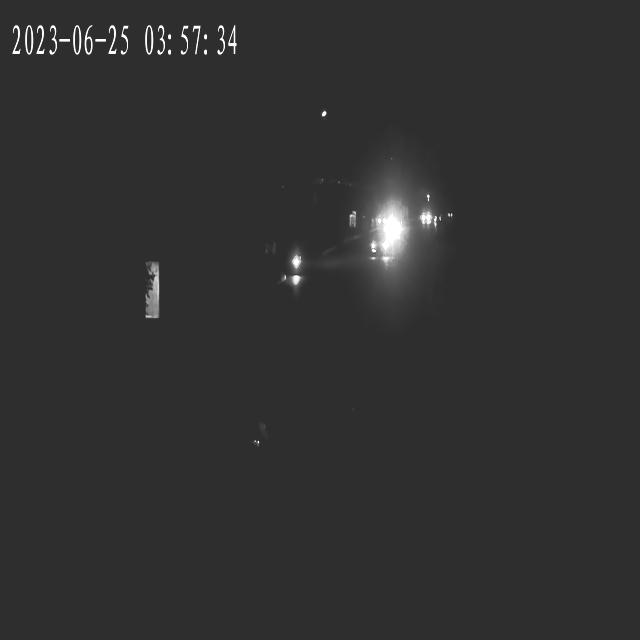Car: (367, 236, 394, 262), (378, 212, 403, 236), (372, 211, 398, 232), (416, 211, 435, 227), (419, 212, 436, 228)
